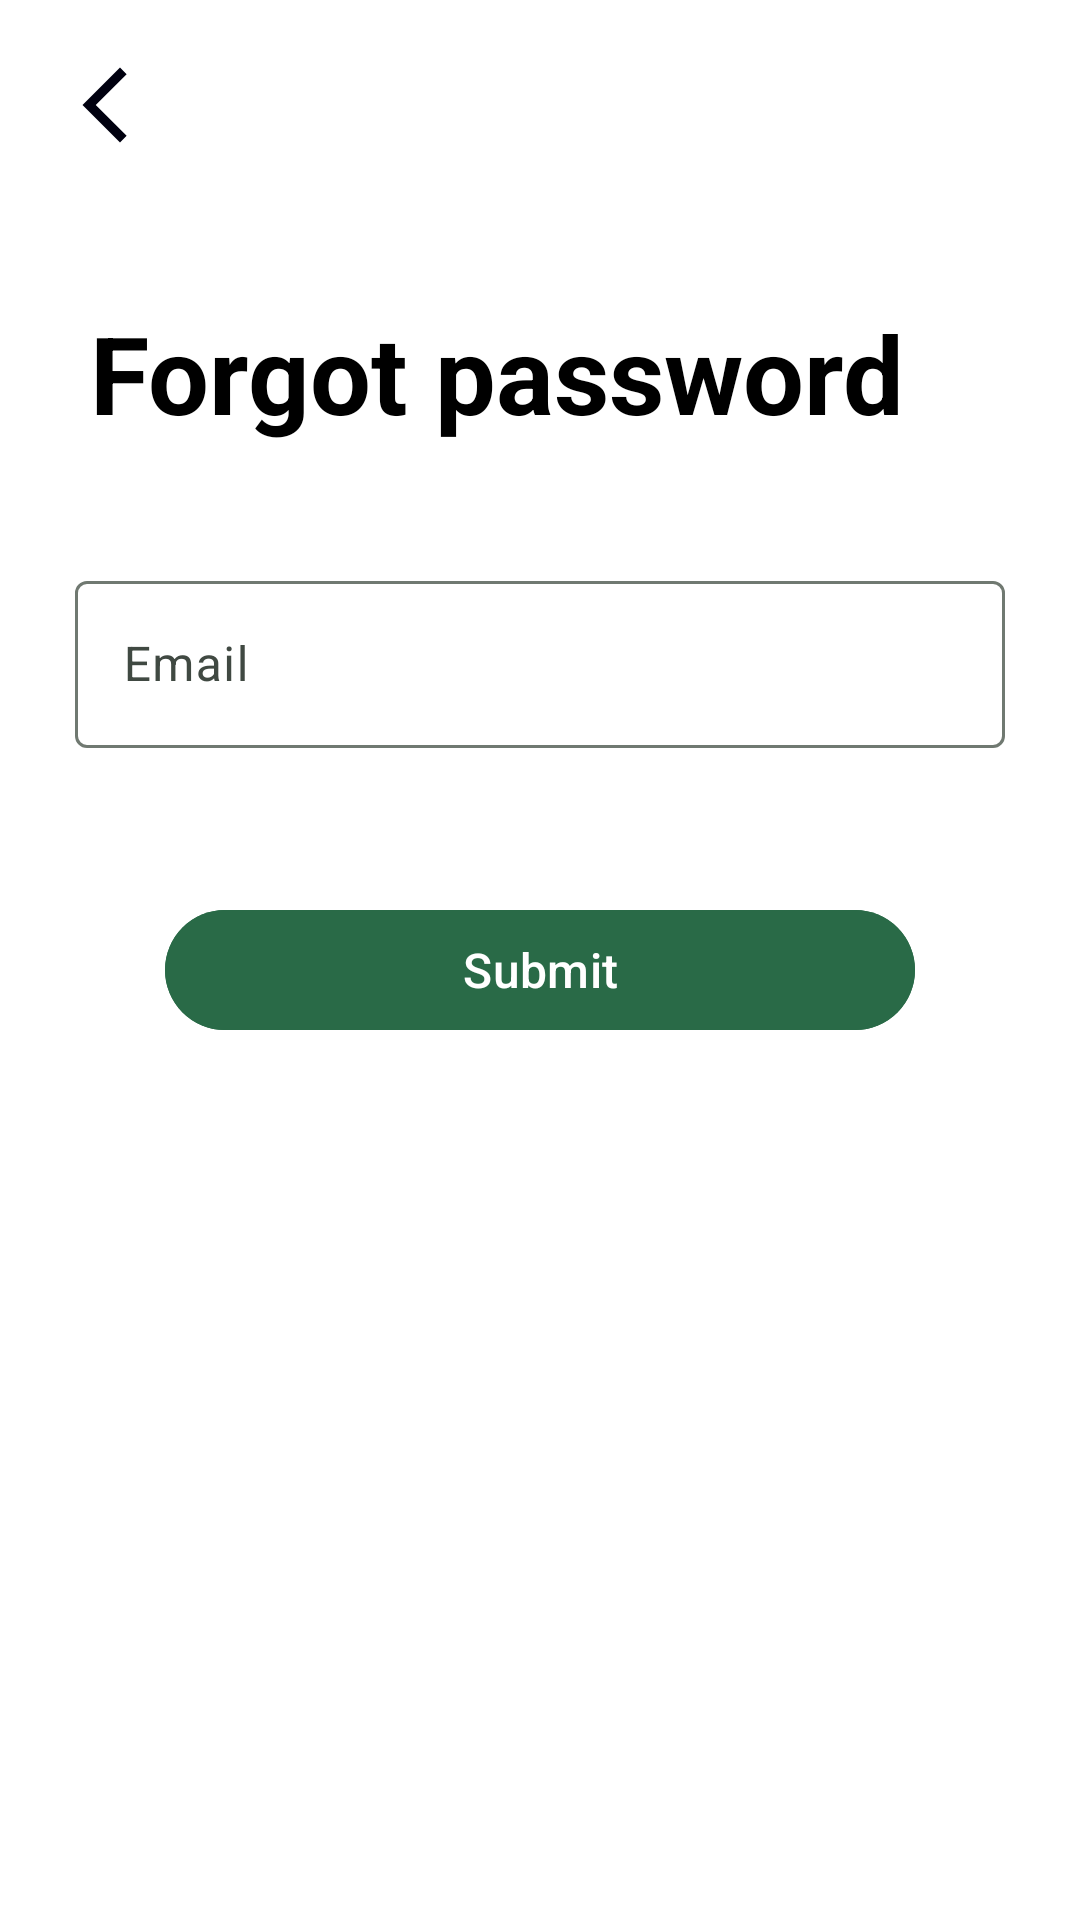

Named icons in this screenshot (1080w x 1920h) and their centers, point (x, y):
back: point (104, 105)
